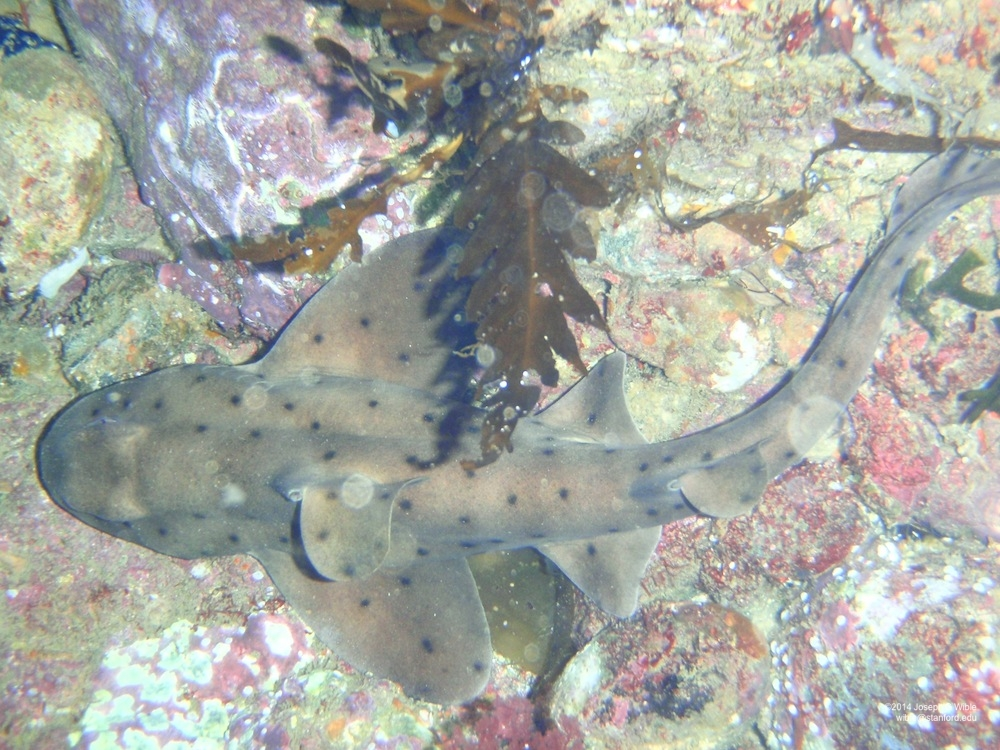shark: (24, 117, 989, 712)
